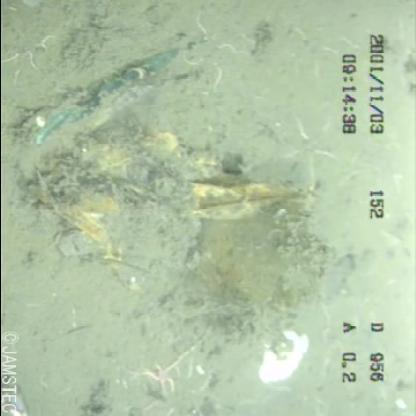Bio: (132, 356, 188, 411)
Rác: (6, 20, 322, 308)
